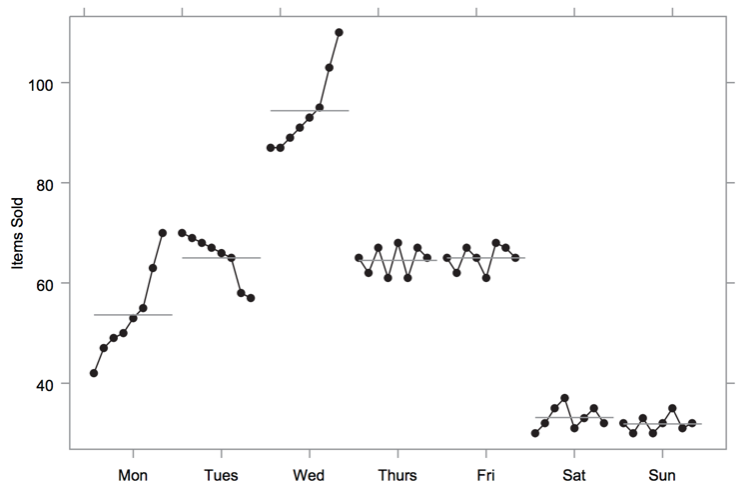

The dashboard page shown, as its layout file describes it:
{"tool":"tableau","page":{"name":"Dashboard 2","canvas":[1000,1000],"units":"permille","ordinal":1},"visuals":[{"type":"worksheet","title":"Sheet 1","mark":"Line","rows":["Rank","Rank"],"cols":["Year"],"box":[0,0,993.9,1000]}]}

Visuals, with their boxes on the dashboard's canvas, which has no fixed pixel size, in thousandths of its width and height (x1, y1, x2, y2). These are canvas units, not pixel positions in the 747x489 screenshot, which may show the page scaled, cropped or inside an application window:
"Sheet 1" worksheet (Line marks): {"x1": 0, "y1": 0, "x2": 994, "y2": 1000}
